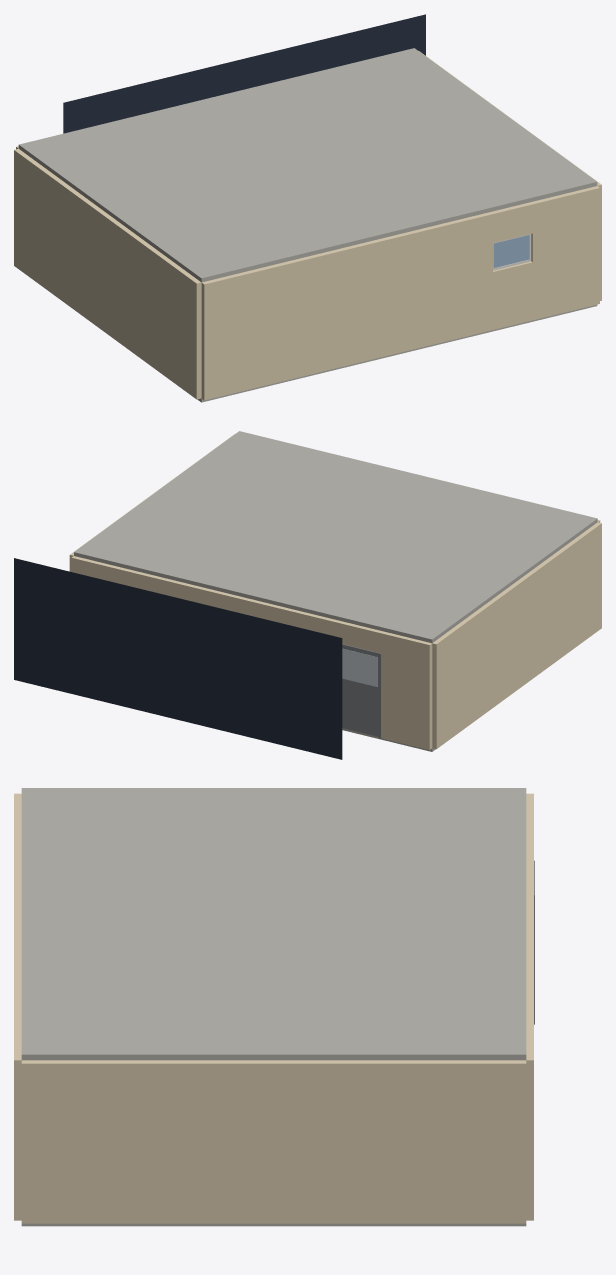
The model's file is St_Gukbap.fbx.
The picture shows the model from 3 angles, top to bottom: view 1: azimuth 30°, elevation 25°; view 2: azimuth 150°, elevation 25°; view 3: azimuth 270°, elevation 25°; orthographic projection. The views are drawn at different scales.
Visible parts, largest first — view 1: Gukbap_Shell_LOD0; view 2: Gukbap_Shell_LOD0; view 3: Gukbap_Shell_LOD0.
Part boxes in pixels (x1,y1,x2,y2): Gukbap_Shell_LOD0: [14, 14, 601, 402]; Gukbap_Shell_LOD0: [14, 431, 601, 759]; Gukbap_Shell_LOD0: [14, 788, 534, 1226].
Bounding box in the file's own units: 11.1 × 3.25 × 9.32.
